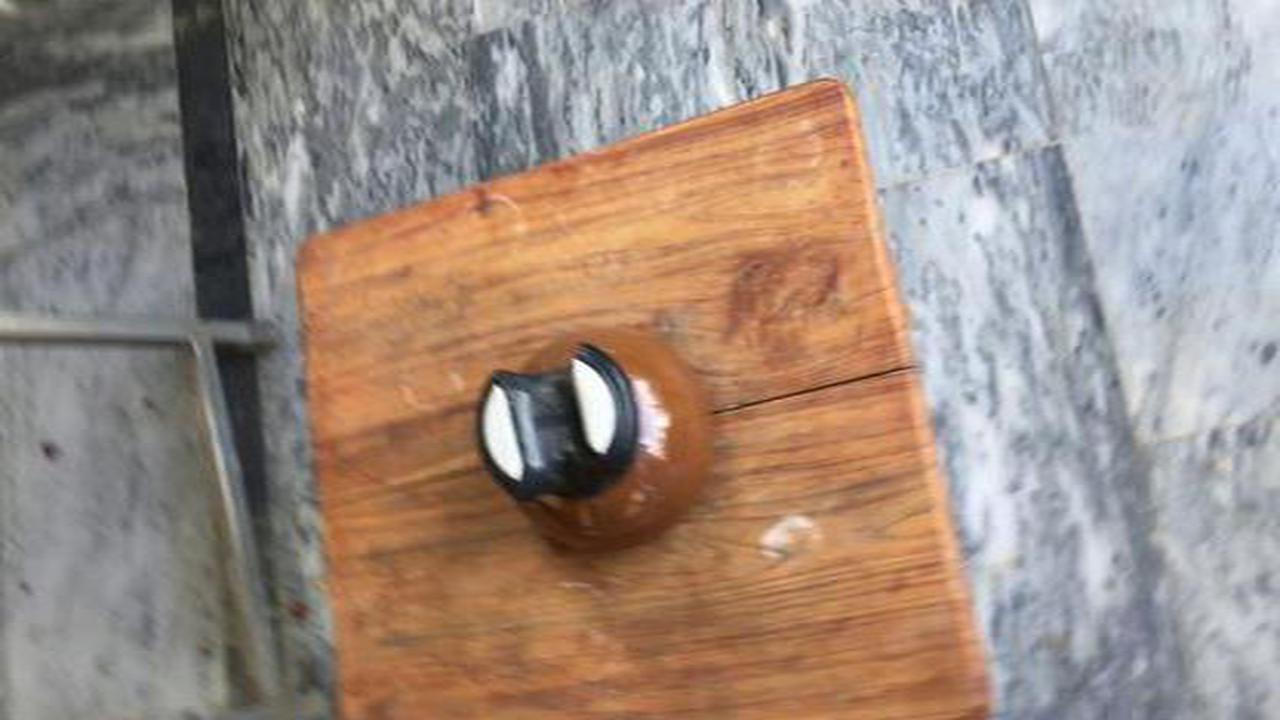insulator_pin: (456, 319, 745, 573)
